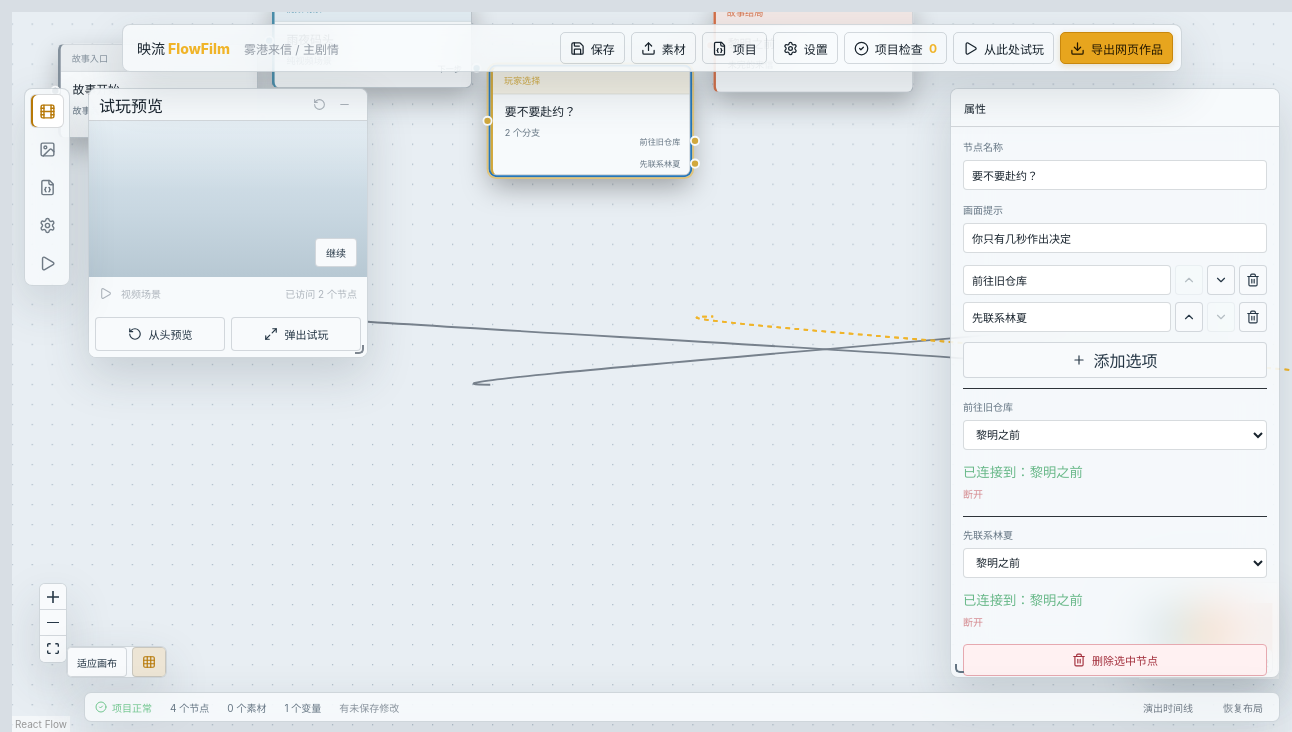
Test: editor workbench › opens assets and project tools as temporary drawers
Click the button "素材": (663, 48) [631,32,696,64]
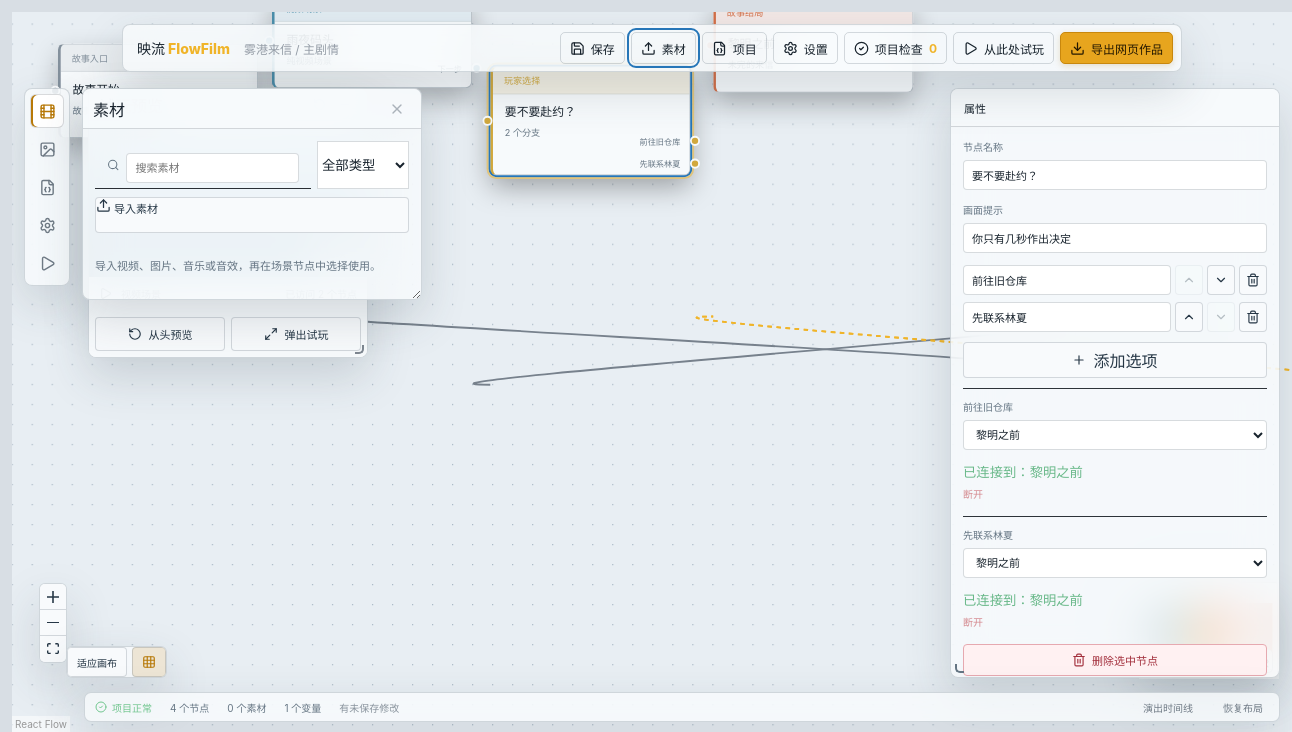
Now the file field labelled "导入素材" is shown, box [95,197,409,233]
Now the text "导入视频、图片、音乐或音效，再在场景节点中选择使用。" is shown, box [95,258,409,276]
Click the button "项目": (734, 48) [702,32,767,64]
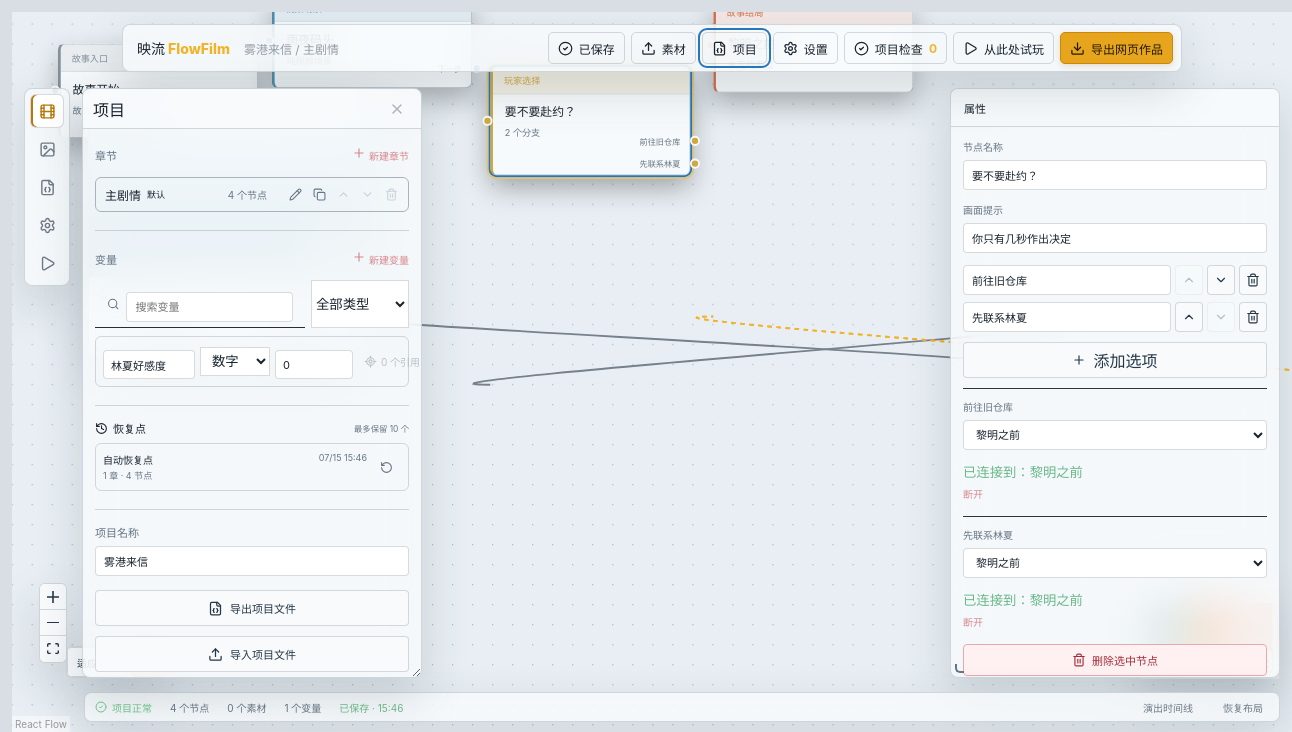
Now the button "导出项目文件" is shown, box [95,590,409,626]
